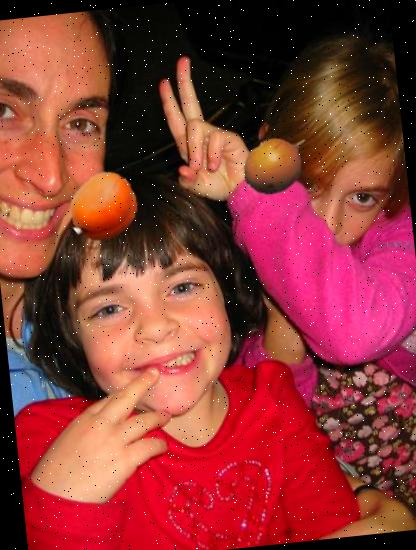Apricot: (63, 168, 142, 247)
Granadilla: (237, 124, 317, 204)
